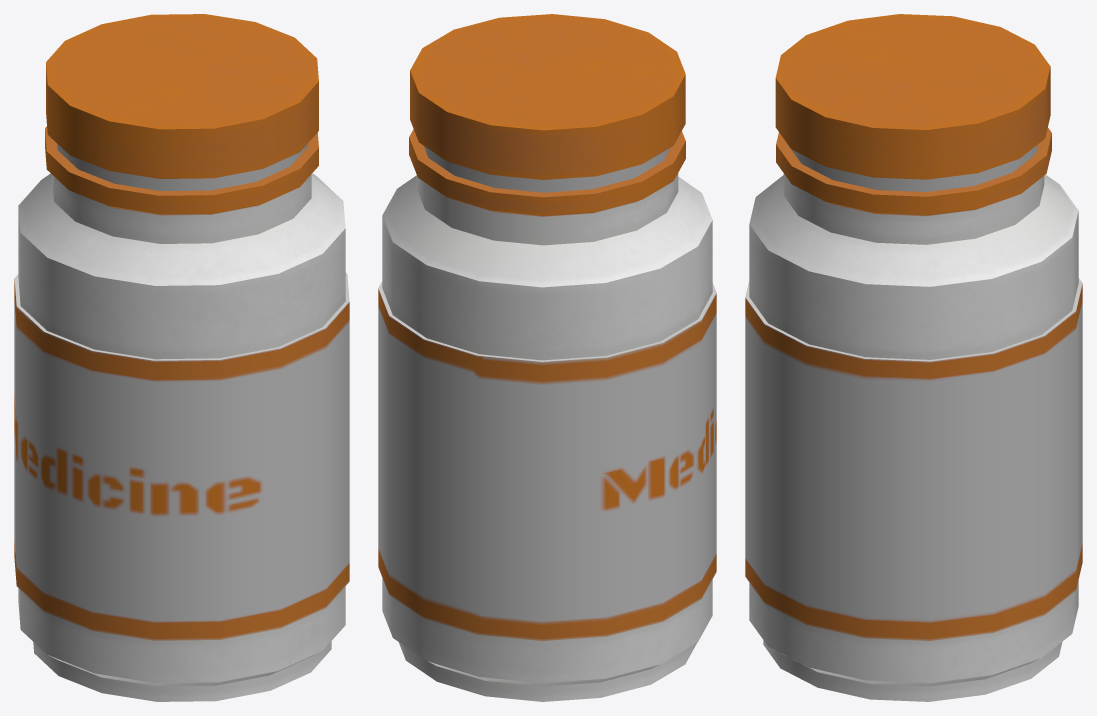
File: MedicineBottleA.fbx
The picture shows the model from 3 angles, left to right: view 1: azimuth 30°, elevation 25°; view 2: azimuth 150°, elevation 25°; view 3: azimuth 270°, elevation 25°; orthographic projection.
Visible parts, largest first — view 1: MedicineBottleA; view 2: MedicineBottleA; view 3: MedicineBottleA.
Part boxes in pixels (x1=…): MedicineBottleA: x1=14, y1=14, x2=349, y2=701; MedicineBottleA: x1=378, y1=14, x2=716, y2=701; MedicineBottleA: x1=745, y1=14, x2=1082, y2=701.
Bounding box in the file's own units: 2.58 × 4.79 × 2.58.
